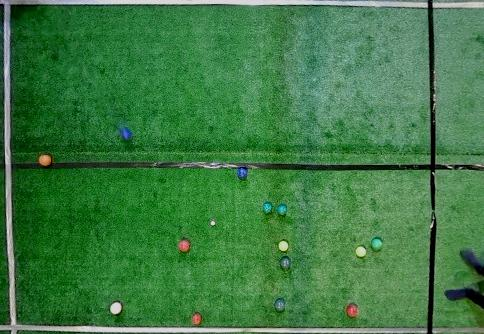blue: (120, 128, 132, 141), (237, 167, 248, 179)
green: (371, 238, 382, 251), (274, 299, 285, 311), (262, 202, 272, 214), (280, 257, 290, 269), (277, 205, 286, 216)
red: (39, 154, 52, 167), (346, 304, 358, 317), (109, 302, 122, 314), (178, 240, 189, 251), (192, 313, 202, 325)
vline: (426, 1, 484, 333), (0, 1, 21, 333)
white: (211, 221, 215, 226)
yellow: (355, 246, 367, 258), (278, 241, 289, 252)
